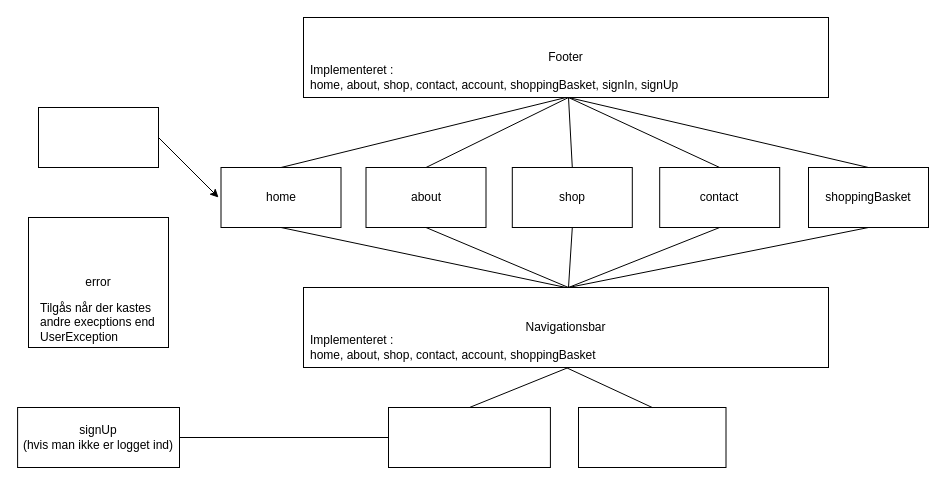
Image size: 946x485. Some labels were removed from this diagram. Here are the shapes that lost their labels. From the top down, the centre of each, then its label:
pixel 98 137: Splash screen (index)
pixel 469 437: signIn (hvis man ikke er logget ind)
pixel 652 437: account (hvis man er logget ind)
